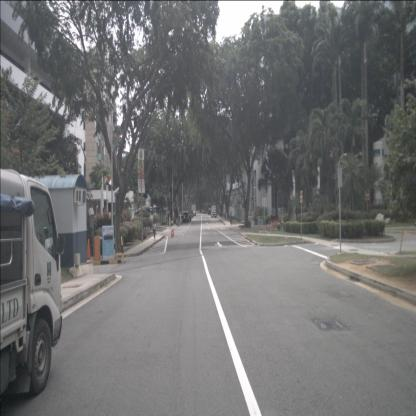cone: (86, 239, 92, 260), (172, 229, 175, 237), (171, 230, 173, 238)
